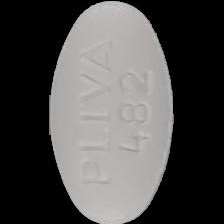50111-482: (0, 0, 224, 224)
